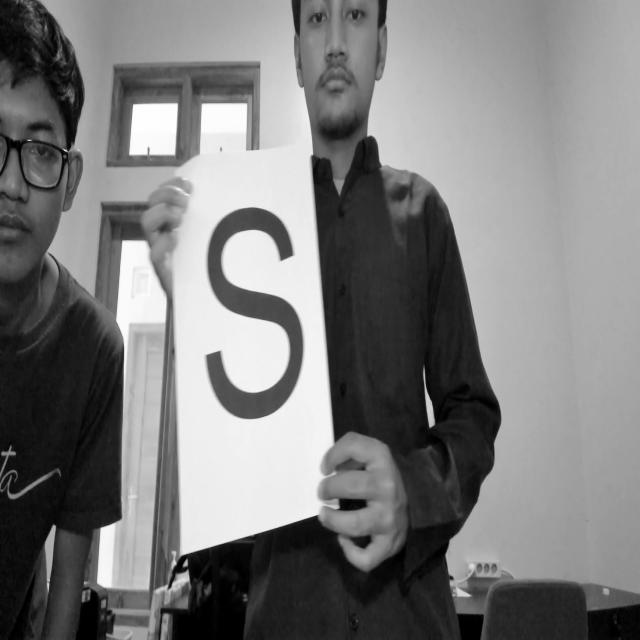s: (196, 195, 304, 450)
